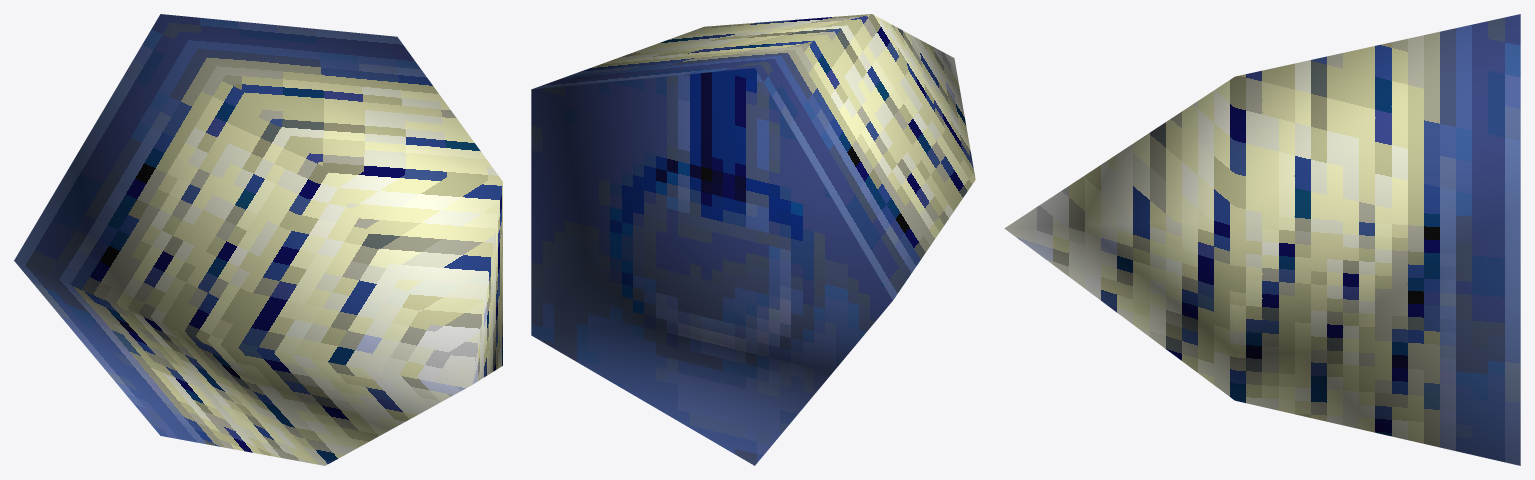
The picture shows the model from 3 angles, left to right: view 1: azimuth 30°, elevation 25°; view 2: azimuth 150°, elevation 25°; view 3: azimuth 270°, elevation 25°; orthographic projection. The views are drawn at different scales.
Parts seen in each view (by area): view 1: 7c801a50; view 2: 7c801a50; view 3: 7c801a50.
Part boxes in pixels (<box>): 7c801a50: <box>14,14,502,465</box>; 7c801a50: <box>531,14,975,465</box>; 7c801a50: <box>1004,14,1520,465</box>.
Bounding box in the file's own units: 7.71 × 8.1 × 9.09.
Materials: 2 (2 with a texture image).
